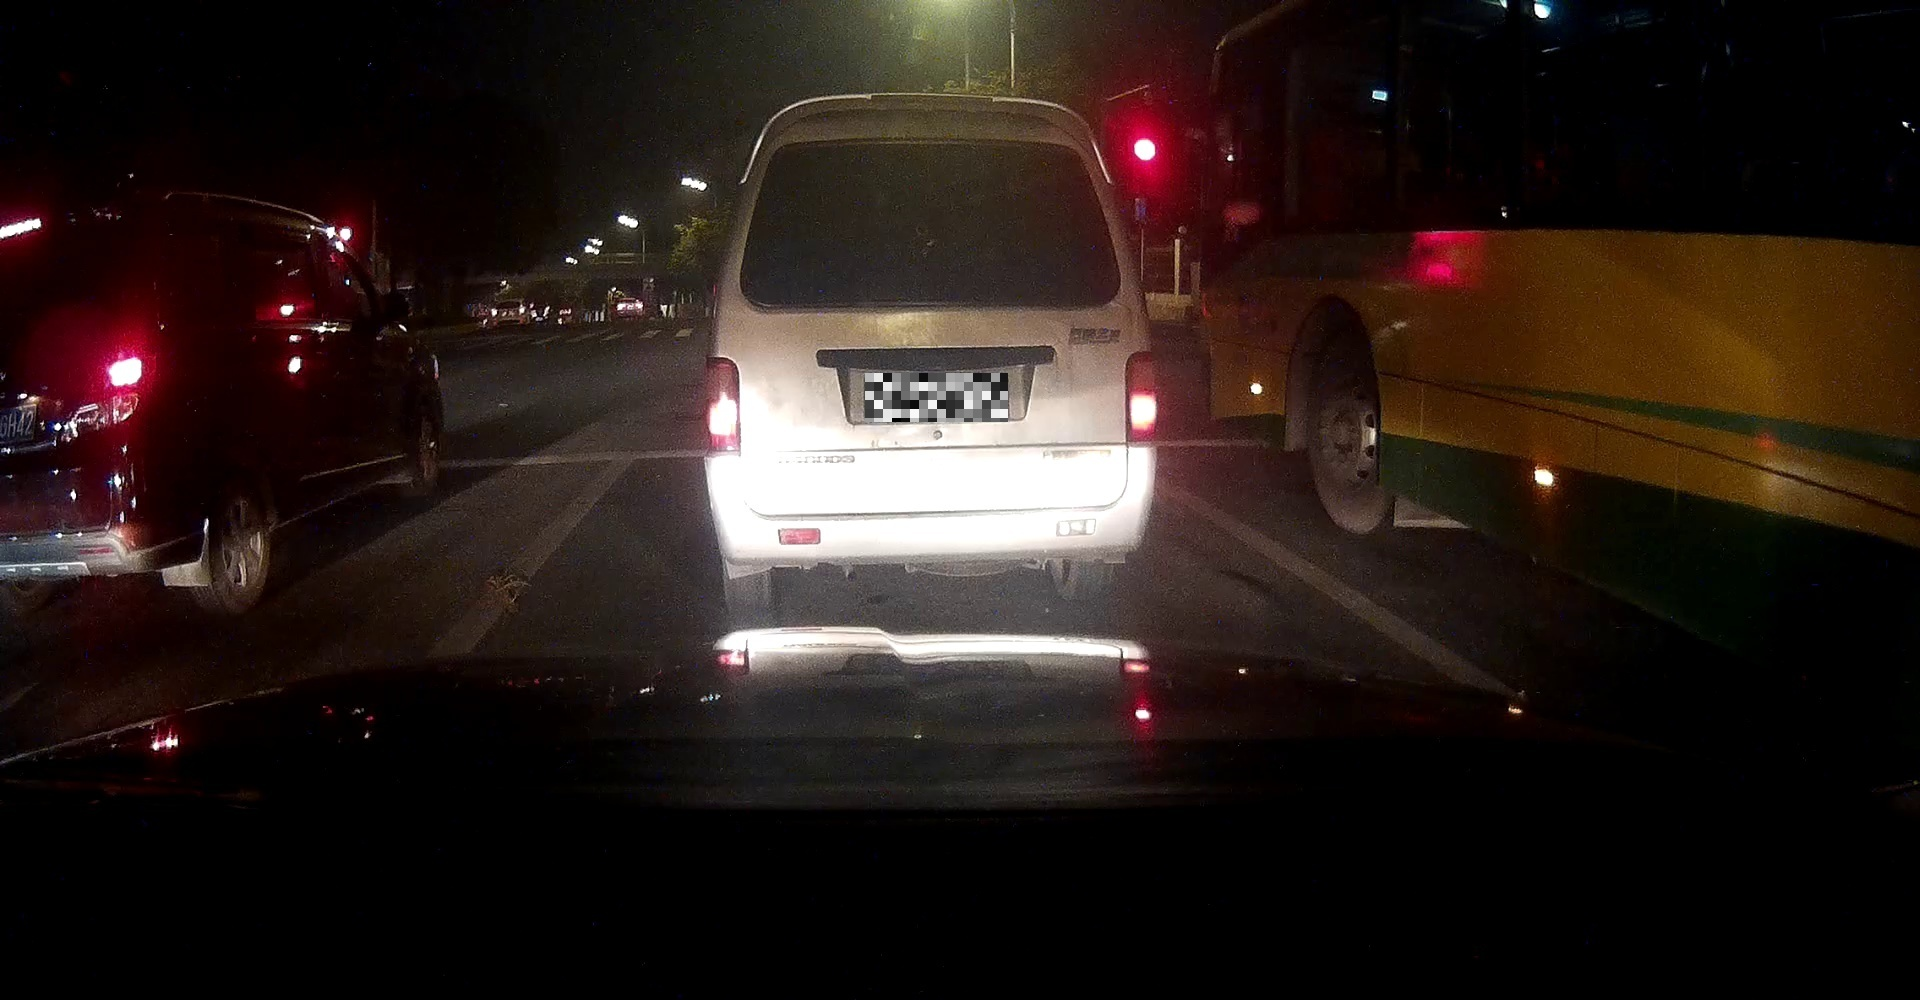L_light: (703, 357, 742, 457)
R_light: (1123, 350, 1159, 445)
T_light: (895, 131, 968, 151)
night-no: (703, 91, 1161, 619)
plate_1: (865, 373, 1008, 423)
